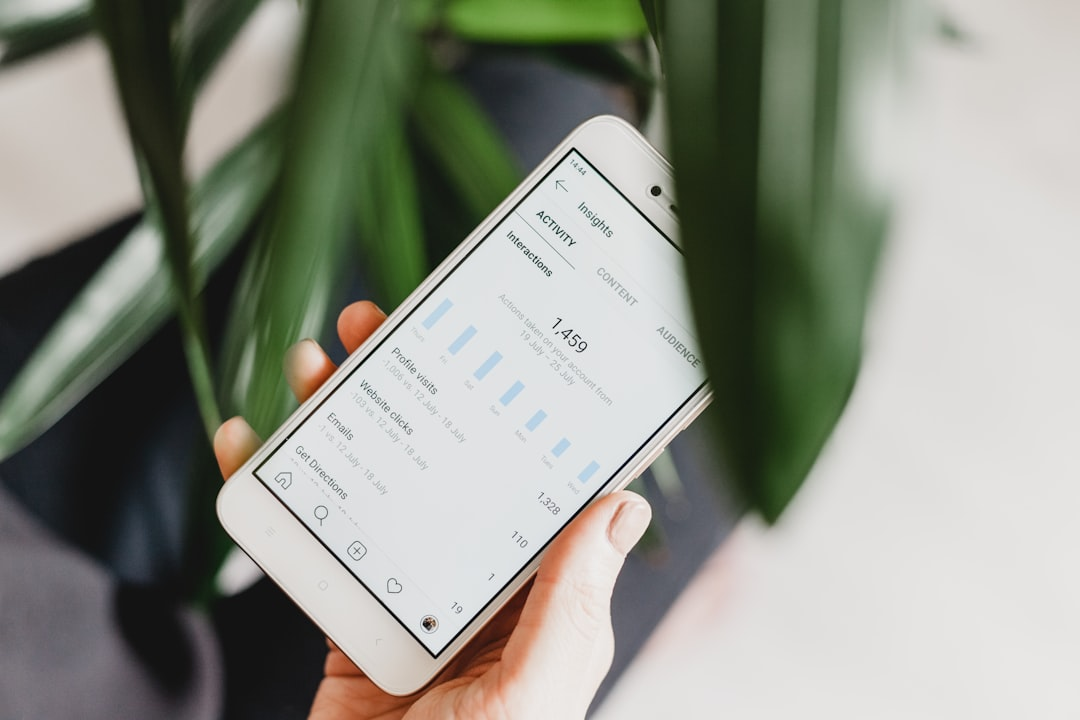phone: (206, 105, 776, 701)
